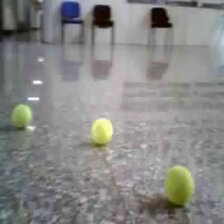tennis: (164, 165, 193, 207), (91, 117, 113, 144), (11, 105, 32, 129)
